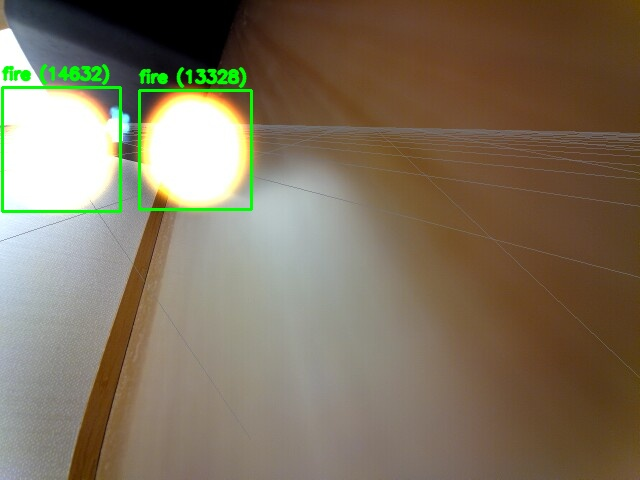fire: (2, 87, 120, 211), (139, 90, 251, 209)
